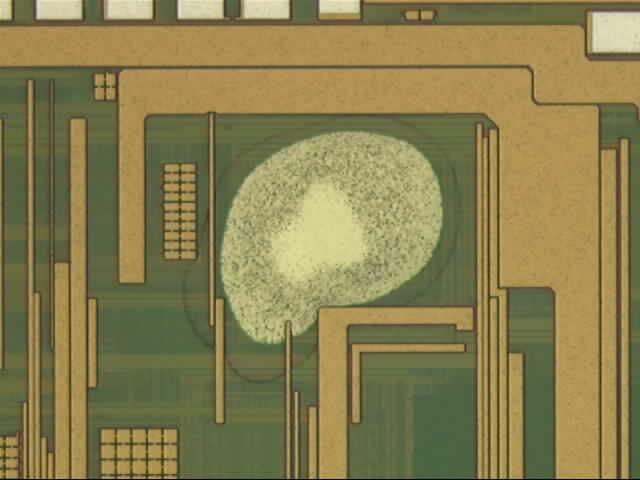BLOCK ETCH: (183, 119, 464, 386)
